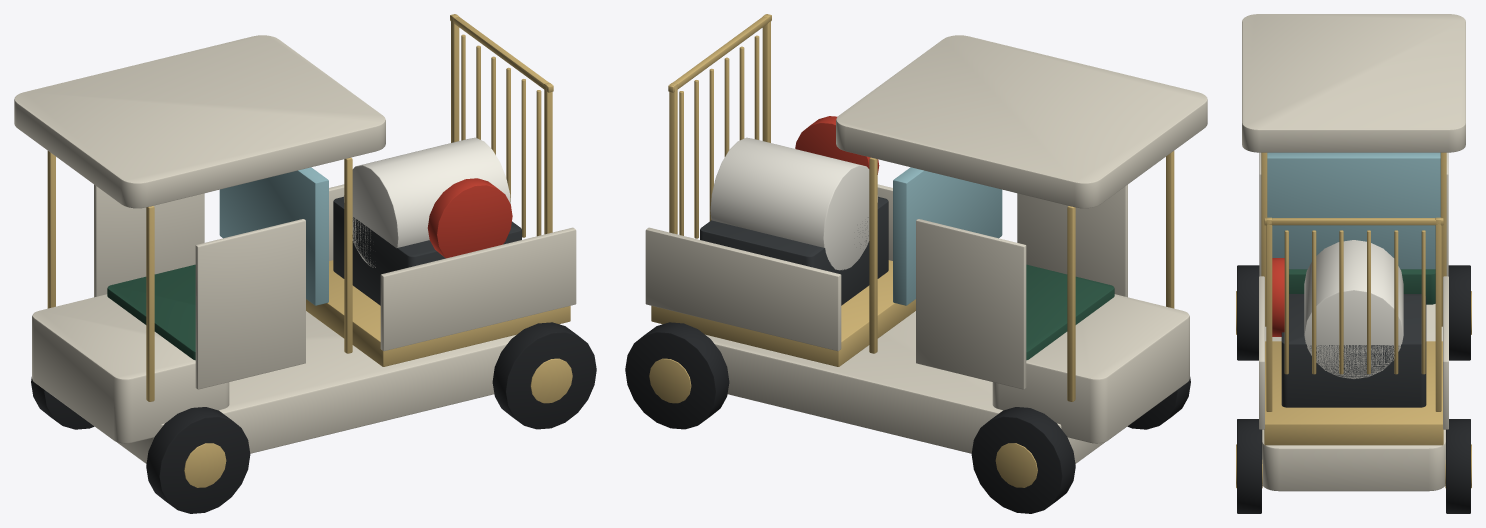
Rendered from maintenance_cart_country_club.glb.
3 renders of one model, left to right at view 1: azimuth 30°, elevation 25°; view 2: azimuth 150°, elevation 25°; view 3: azimuth 270°, elevation 25°, orthographic. The views are drawn at different scales.
Visible parts, largest first — view 1: Canopy_Roof, ServiceCart_Chassis, ServiceCart_Hood, ServiceCart_CabDoor_L, ServiceCart_BedSide_L, Maintenance_WashTank, ServiceCart_CabDoor_R, ServiceCart_Windshield, ServiceWheel_Front_L_Tire, ServiceWheel_Rear_L_Tire, ServiceCart_BedFloor, Maintenance_HoseReel (+13 smaller); view 2: Canopy_Roof, ServiceCart_Chassis, ServiceCart_Hood, ServiceCart_CabDoor_R, ServiceCart_BedSide_R, Maintenance_WashTank, ServiceCart_CabDoor_L, ServiceCart_Windshield, ServiceWheel_Front_R_Tire, ServiceWheel_Rear_R_Tire, ServiceCart_BedFloor, ServiceCart_Toolbox (+14 smaller); view 3: Canopy_Roof, ServiceCart_Windshield, Maintenance_WashTank, ServiceCart_Toolbox, ServiceCart_Chassis, ServiceCart_BedFloor, ServiceWheel_Rear_L_Tire, ServiceWheel_Rear_R_Tire, ServiceWheel_Front_L_Tire, ServiceWheel_Front_R_Tire, ServiceCart_SafetyRackTop, ServiceCart_SafetyRackPost_L (+15 smaller).
Boxes of the visible parts, bbox=[...] form: Canopy_Roof: bbox=[14, 35, 385, 208]; ServiceCart_Chassis: bbox=[117, 311, 516, 463]; ServiceCart_Hood: bbox=[32, 294, 229, 443]; ServiceCart_CabDoor_L: bbox=[195, 219, 305, 389]; ServiceCart_BedSide_L: bbox=[380, 227, 576, 351]; Maintenance_WashTank: bbox=[344, 137, 511, 267]; ServiceCart_CabDoor_R: bbox=[94, 184, 204, 297]; ServiceCart_Windshield: bbox=[219, 167, 328, 305]; ServiceWheel_Front_L_Tire: bbox=[146, 407, 250, 513]; ServiceWheel_Rear_L_Tire: bbox=[492, 322, 596, 429]; ServiceCart_BedFloor: bbox=[306, 260, 570, 366]; Maintenance_HoseReel: bbox=[427, 178, 512, 258]; Canopy_Roof: bbox=[836, 35, 1207, 208]; ServiceCart_Chassis: bbox=[705, 311, 1104, 463]; ServiceCart_Hood: bbox=[992, 294, 1189, 443]; ServiceCart_CabDoor_R: bbox=[916, 219, 1026, 389]; ServiceCart_BedSide_R: bbox=[645, 227, 841, 351]; Maintenance_WashTank: bbox=[710, 137, 877, 270]; ServiceCart_CabDoor_L: bbox=[1017, 184, 1127, 297]; ServiceCart_Windshield: bbox=[893, 167, 1002, 305]; ServiceWheel_Front_R_Tire: bbox=[971, 407, 1075, 513]; ServiceWheel_Rear_R_Tire: bbox=[625, 322, 729, 429]; ServiceCart_BedFloor: bbox=[651, 260, 915, 366]; ServiceCart_Toolbox: bbox=[700, 196, 888, 305]; Canopy_Roof: bbox=[1242, 14, 1465, 152]; ServiceCart_Windshield: bbox=[1267, 152, 1440, 269]; Maintenance_WashTank: bbox=[1304, 240, 1403, 378]; ServiceCart_Toolbox: bbox=[1281, 294, 1426, 407]; ServiceCart_Chassis: bbox=[1262, 304, 1445, 491]; ServiceCart_BedFloor: bbox=[1264, 341, 1443, 445]; ServiceWheel_Rear_L_Tire: bbox=[1237, 419, 1261, 513]; ServiceWheel_Rear_R_Tire: bbox=[1446, 419, 1470, 513]; ServiceWheel_Front_L_Tire: bbox=[1237, 265, 1259, 360]; ServiceWheel_Front_R_Tire: bbox=[1448, 265, 1470, 360]; ServiceCart_SafetyRackTop: bbox=[1264, 218, 1443, 225]; ServiceCart_SafetyRackPost_L: bbox=[1266, 217, 1272, 411].
Size of what is drawn, in the model's own units: 2.81 by 1.98 by 1.36.
